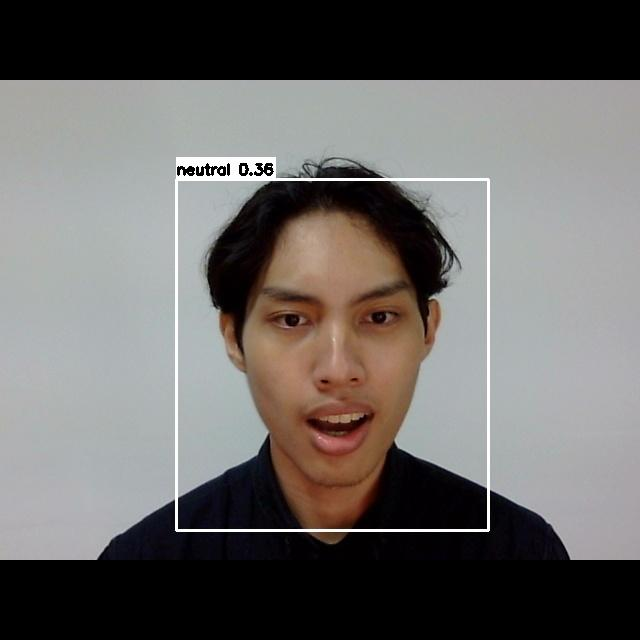Surprised: (237, 260, 431, 491)
